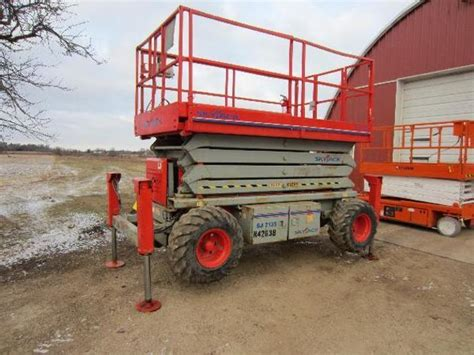Scissor Lift: (131, 5, 381, 284)
